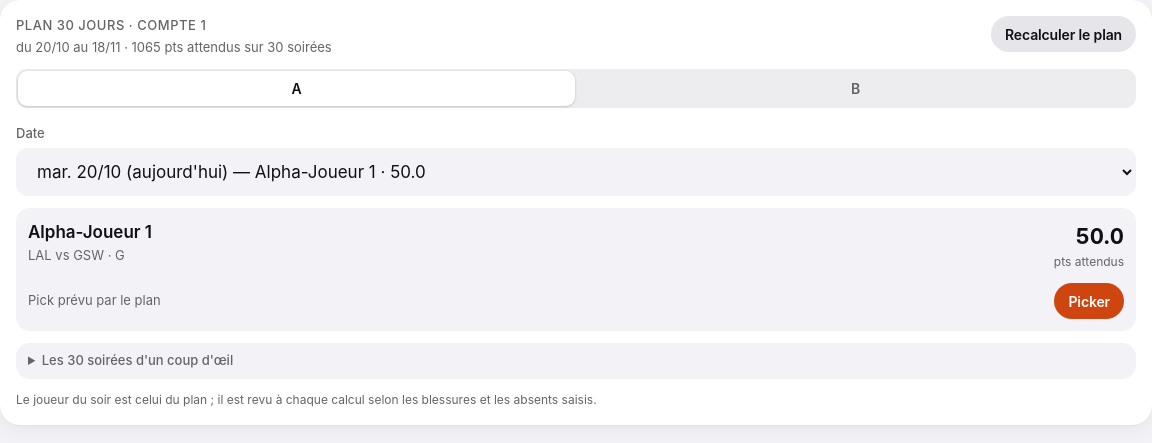
Test: Plan 30 jours › changer de formule affiche le plan de cette formule sans rien demander au PC
The image size is (1152, 443).
Expected: the text "Alpha-Joueur 1" is shown, [28,220,152,246]
Click the tab "B" at coordinates (856, 88), box [577,71,1134,106]
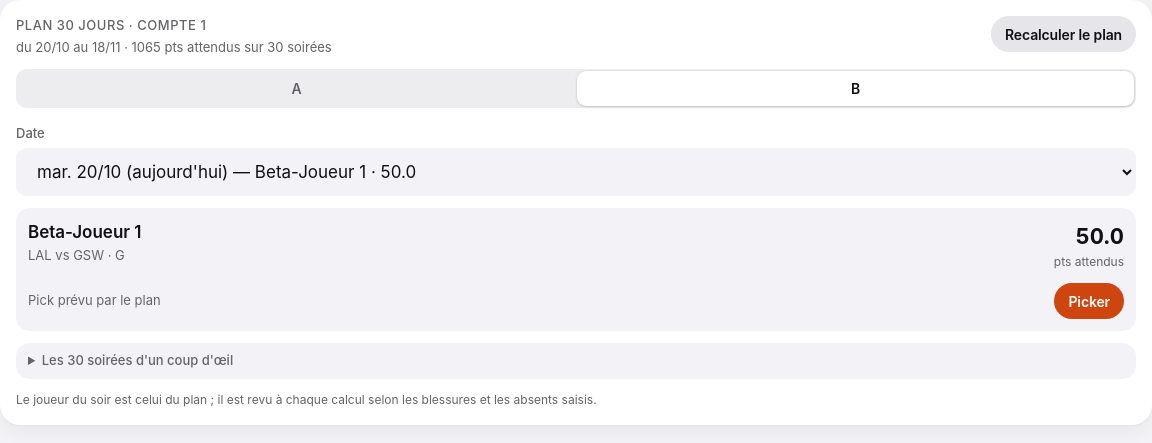
Now the text "Beta-Joueur 1" is shown, box [28,220,142,246]
